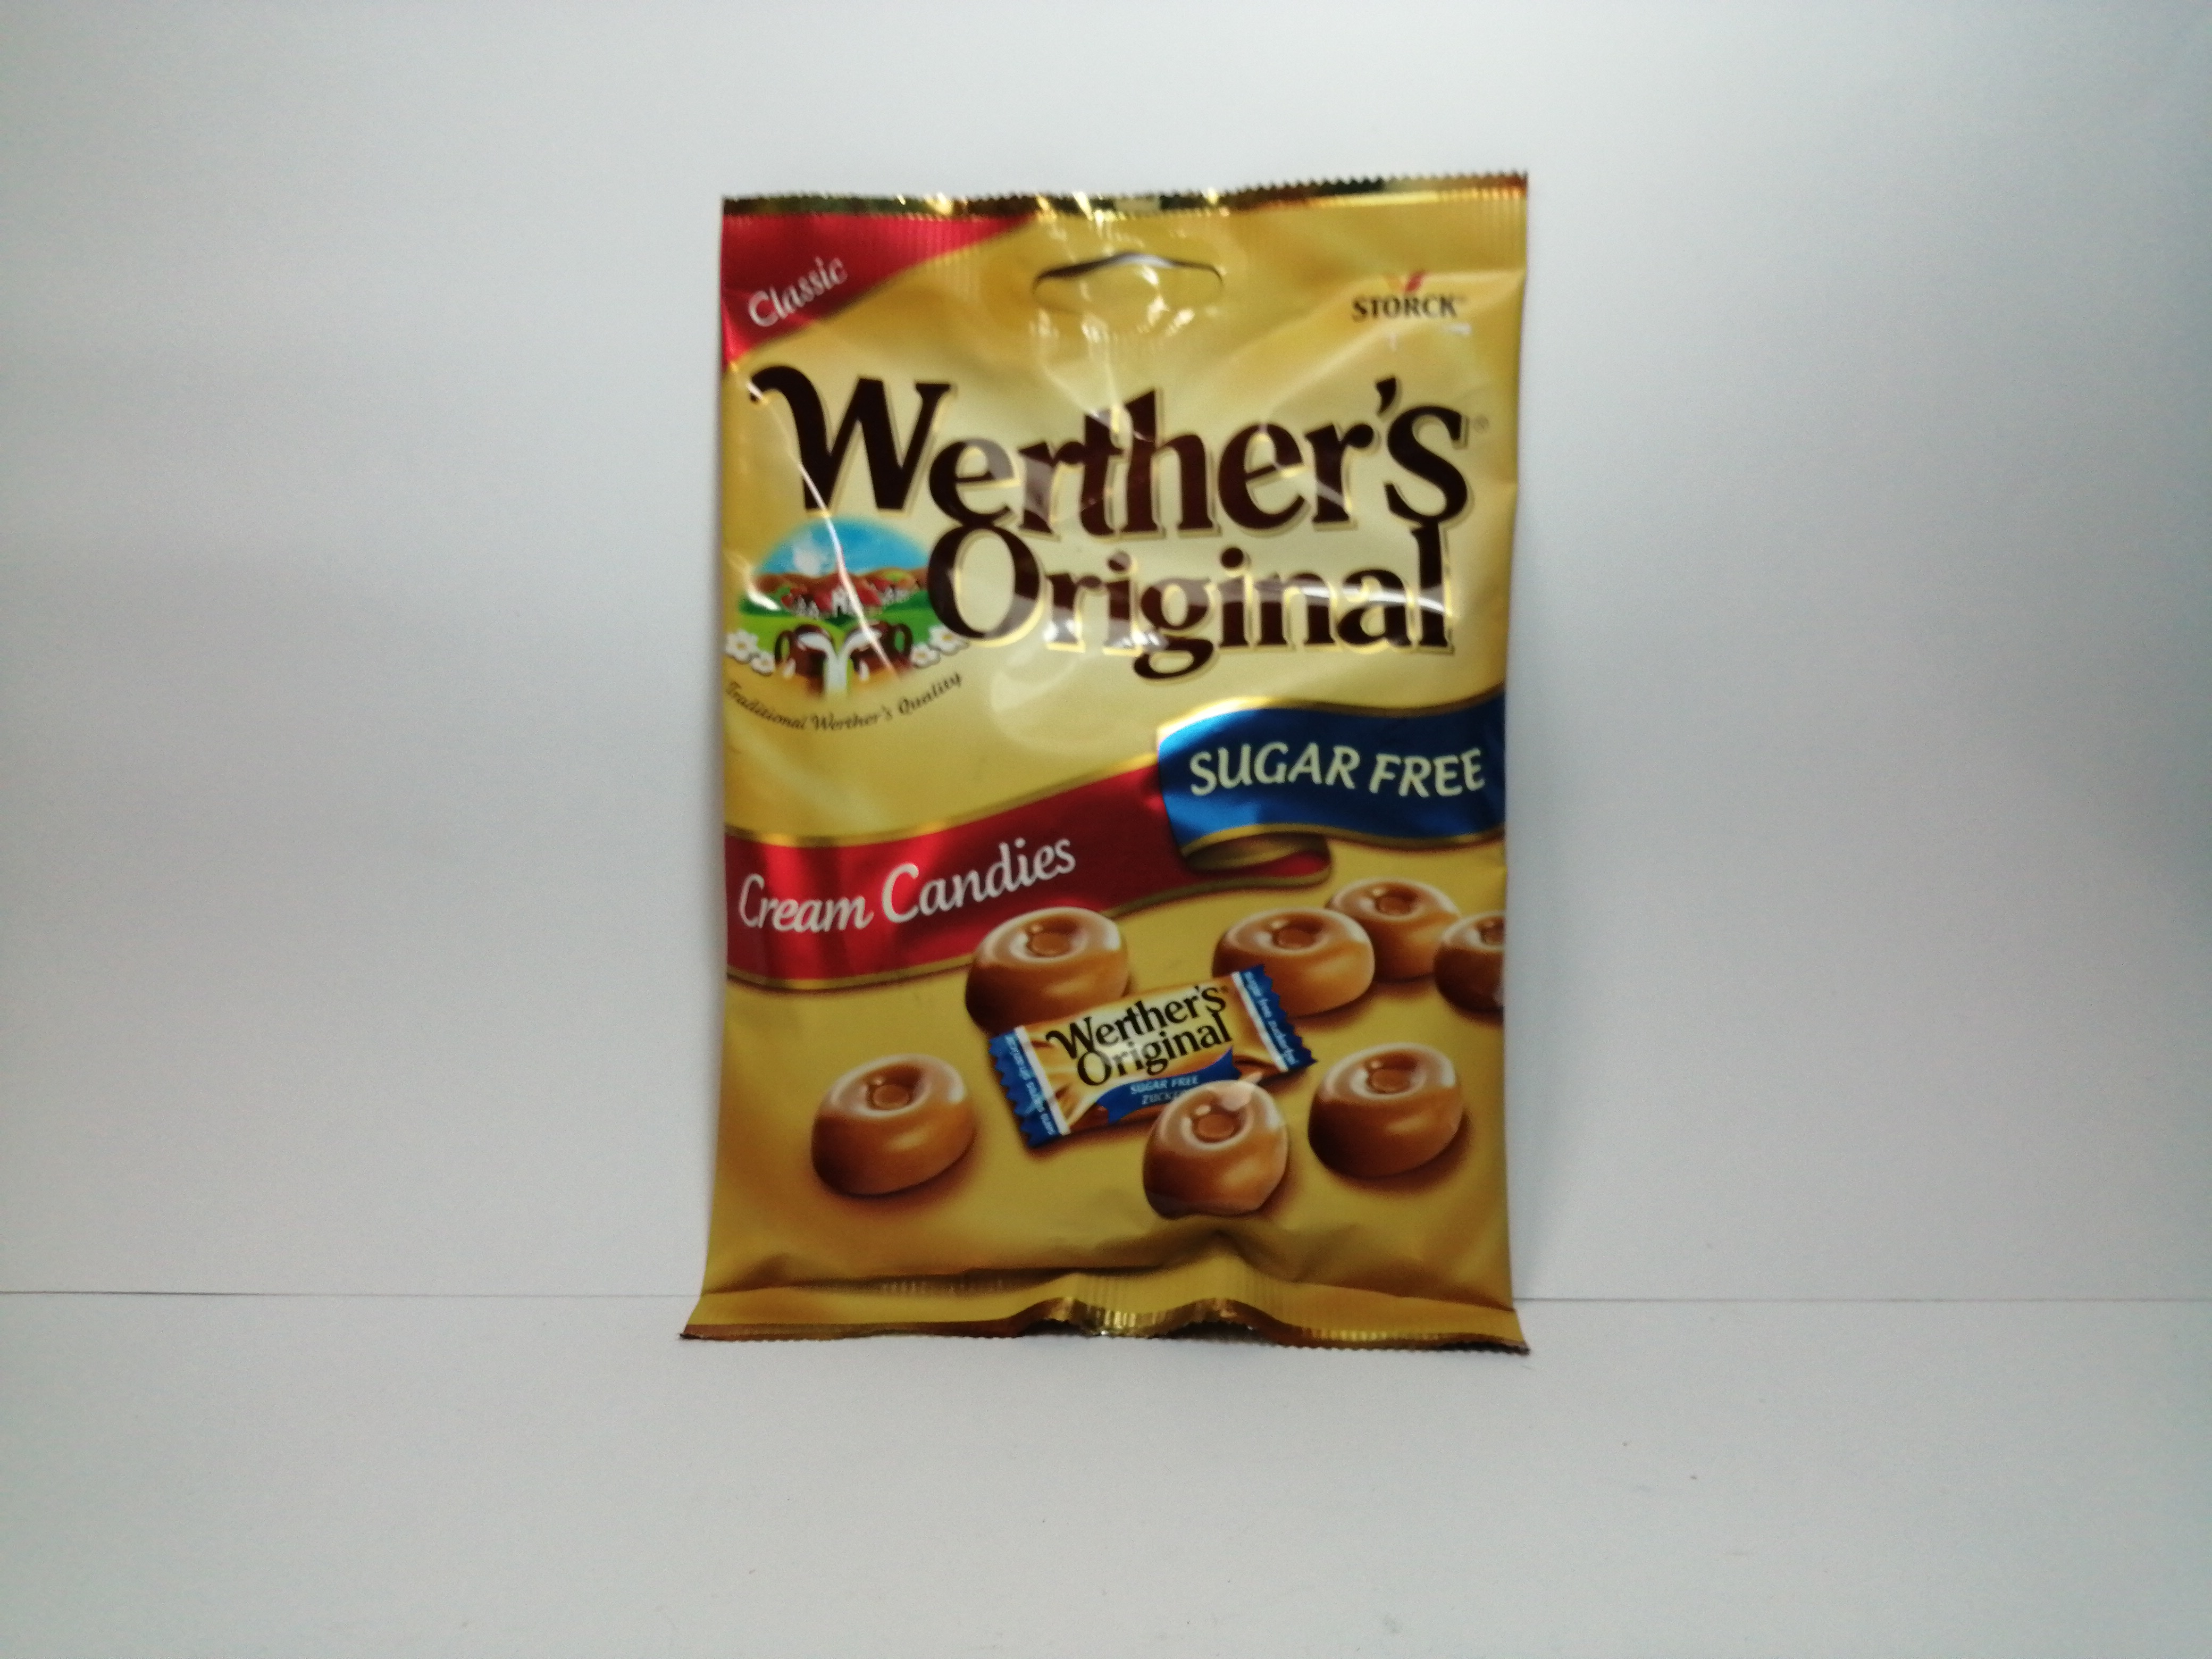dulces: (690, 174, 1536, 1351)
